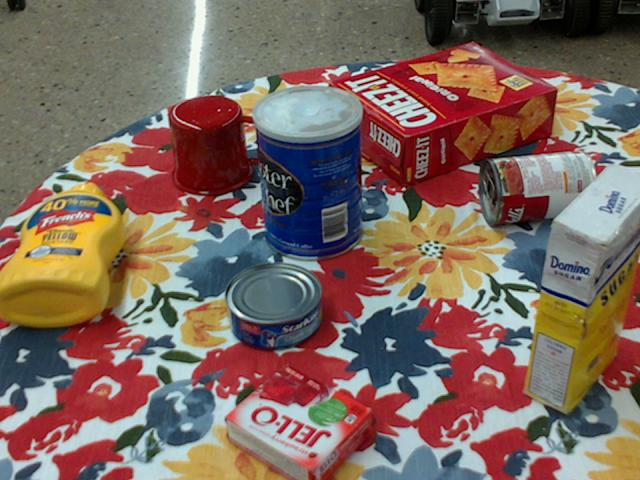cracker_box: (330, 44, 558, 187)
gelatin_box: (227, 366, 377, 479)
master_chef_can: (253, 84, 363, 261)
mug: (168, 95, 273, 196)
mustard_bottle: (0, 183, 125, 326)
sugar_box: (525, 163, 639, 415)
tomato_soup_can: (479, 149, 598, 225)
tuna_fish_can: (224, 263, 322, 351)
